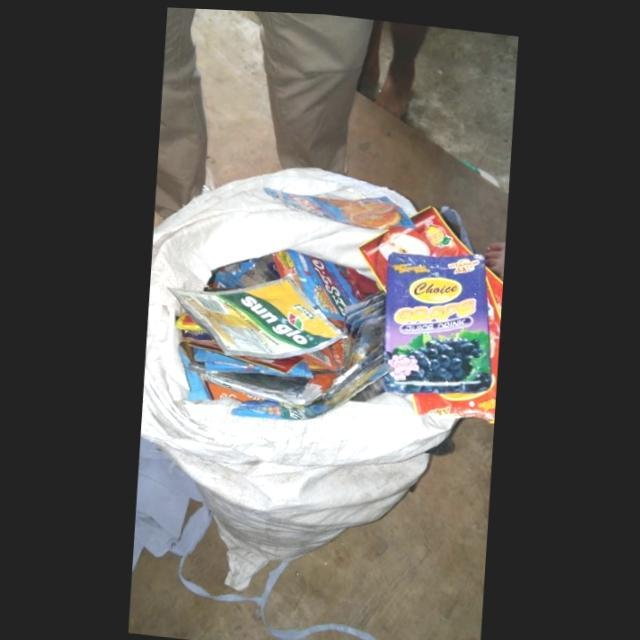wrapper: (380, 247, 492, 394), (165, 274, 345, 356), (229, 357, 387, 417), (271, 246, 360, 317), (261, 185, 411, 226)
